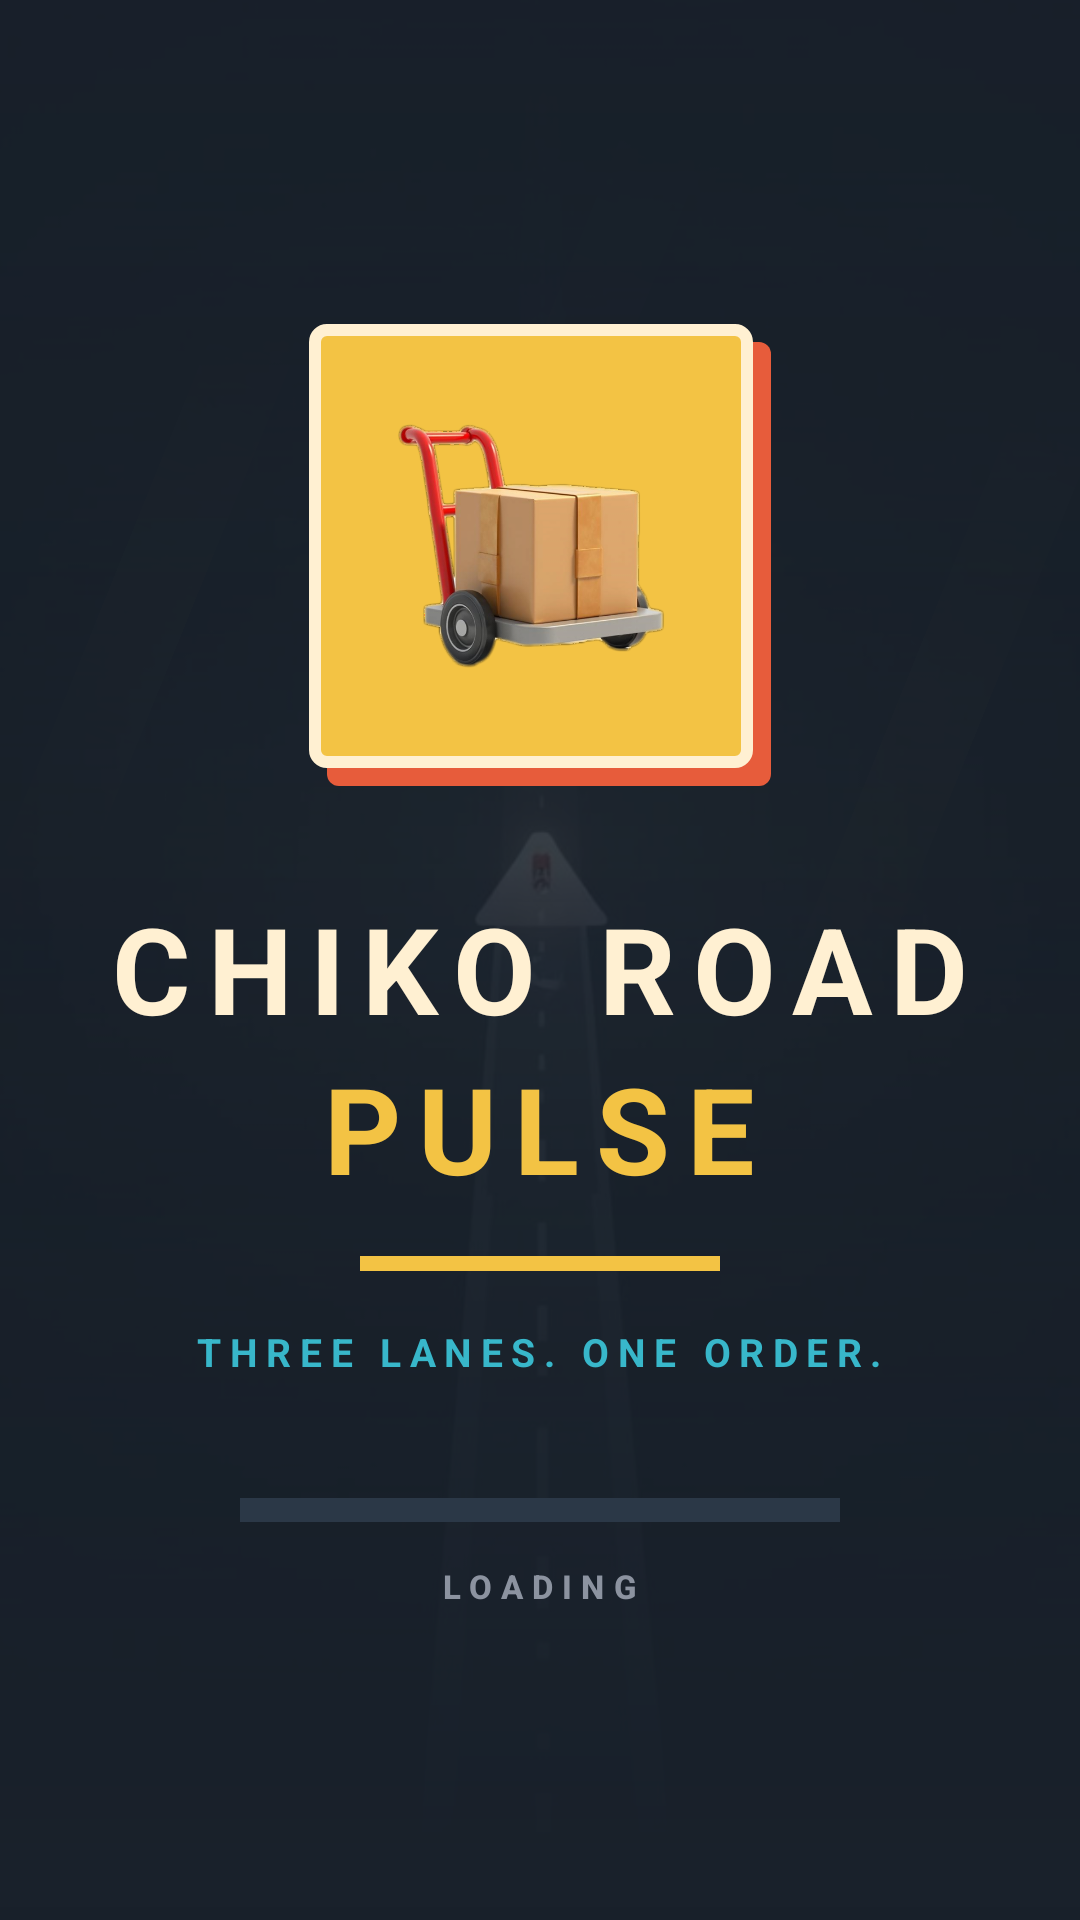

Named icons in this screenshot (1080x1920) and their centers, (x=x, y=y):
Chiko parcel cart emblem: (x=531, y=546)
